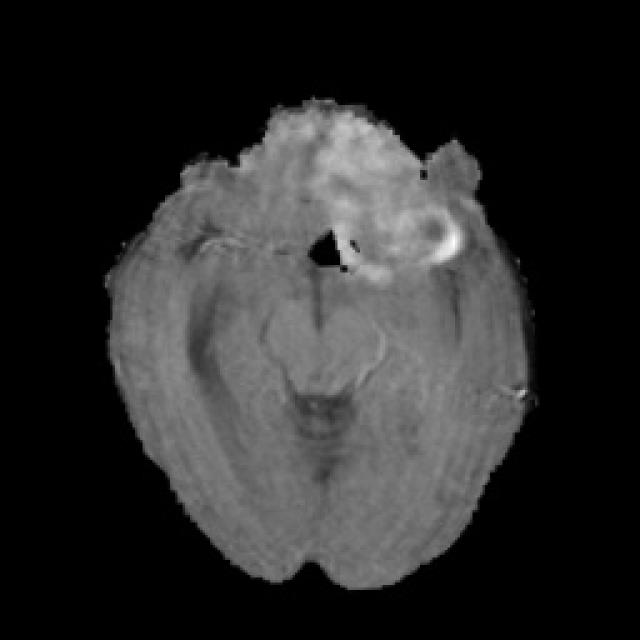negative: (325, 131, 465, 281)
